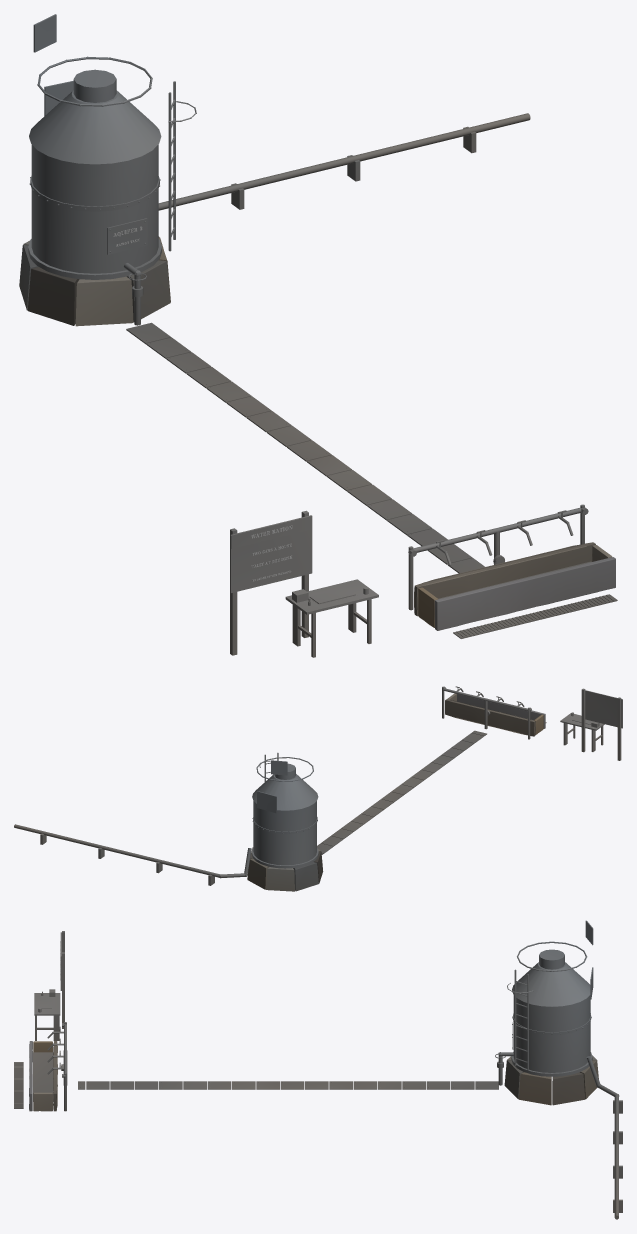
Rendered from WL_WaterPoint_LOD0.glb.
3 renders of one model, top to bottom at view 1: azimuth 30°, elevation 25°; view 2: azimuth 150°, elevation 25°; view 3: azimuth 270°, elevation 25°, orthographic. The views are drawn at different scales.
Parts seen in each view (by area): view 1: WL_WaterPoint_Metal_LOD0, WL_WaterPoint_Masonry_LOD0, WL_WaterPoint_Hardware_LOD0; view 2: WL_WaterPoint_Metal_LOD0, WL_WaterPoint_Masonry_LOD0; view 3: WL_WaterPoint_Metal_LOD0, WL_WaterPoint_Masonry_LOD0, WL_WaterPoint_Sand_LOD0, WL_WaterPoint_Hardware_LOD0.
Boxes of the visible parts, x1=… form: WL_WaterPoint_Metal_LOD0: x1=28, y1=14, x2=617, y2=657; WL_WaterPoint_Masonry_LOD0: x1=19, y1=236, x2=615, y2=630; WL_WaterPoint_Hardware_LOD0: x1=29, y1=99, x2=614, y2=637; WL_WaterPoint_Metal_LOD0: x1=14, y1=686, x2=622, y2=885; WL_WaterPoint_Masonry_LOD0: x1=247, y1=693, x2=545, y2=891; WL_WaterPoint_Metal_LOD0: x1=14, y1=920, x2=622, y2=1219; WL_WaterPoint_Masonry_LOD0: x1=29, y1=1041, x2=598, y2=1111; WL_WaterPoint_Sand_LOD0: x1=33, y1=1052, x2=53, y2=1101; WL_WaterPoint_Hardware_LOD0: x1=14, y1=981, x2=591, y2=1107.
Bounding box in the file's own units: 13.05 × 4.23 × 15.02.
